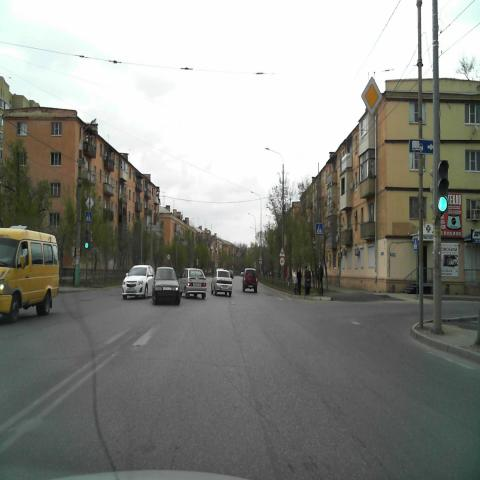6_15_2: (408, 138, 433, 154)
